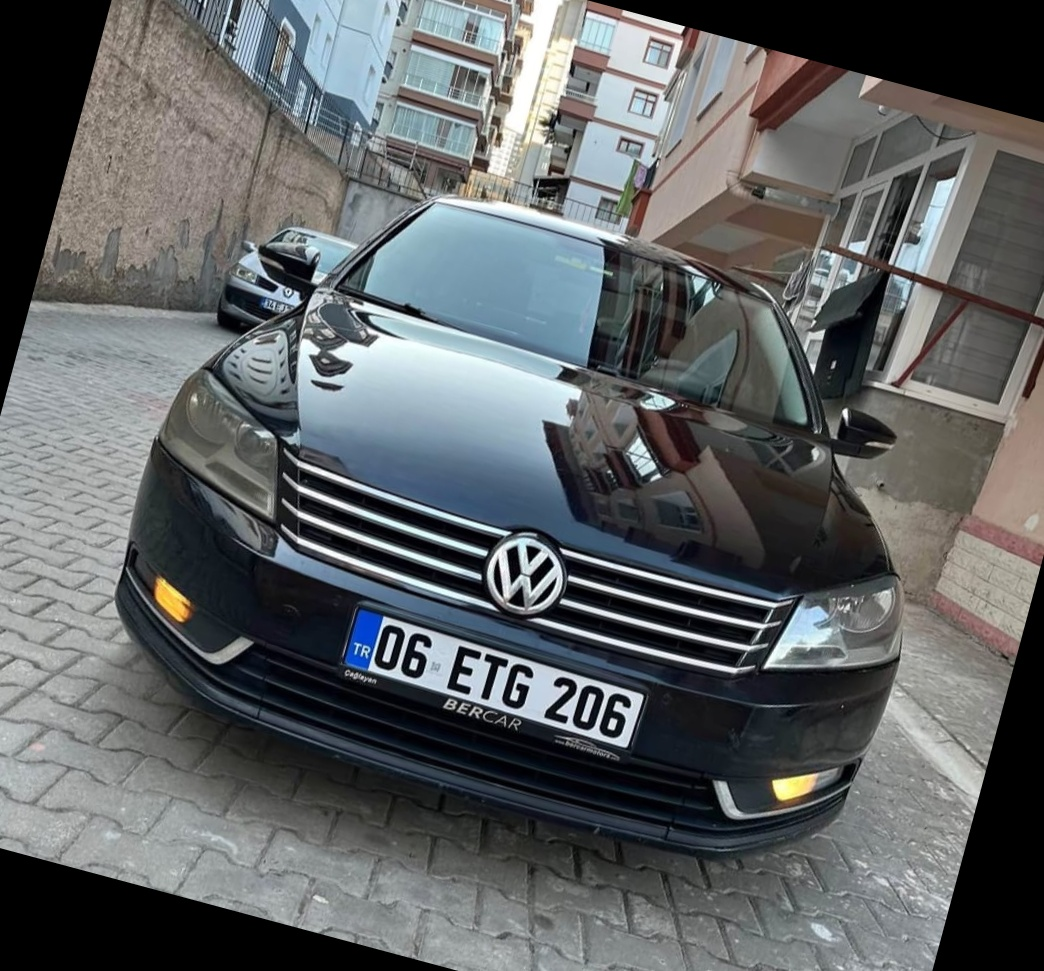plaka: (368, 609, 658, 751)
